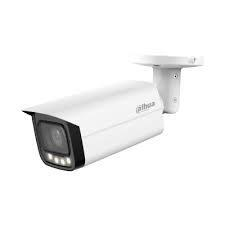tutu: (22, 75, 171, 173)
